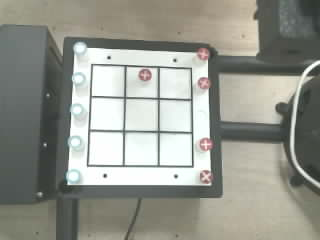blue circle: (66, 169, 80, 183), (68, 136, 82, 150), (73, 42, 86, 54), (70, 103, 83, 115), (75, 76, 82, 82)
board: (65, 45, 214, 187)
cells: (89, 132, 122, 164), (125, 133, 157, 165), (90, 98, 123, 129), (160, 68, 192, 99), (125, 99, 157, 130), (160, 134, 191, 165), (160, 100, 191, 131), (92, 66, 124, 96), (127, 67, 157, 97)
grid: (87, 64, 193, 167)
red cross: (197, 48, 210, 61), (198, 77, 211, 89), (200, 170, 212, 183), (199, 138, 212, 150), (139, 69, 151, 80)
